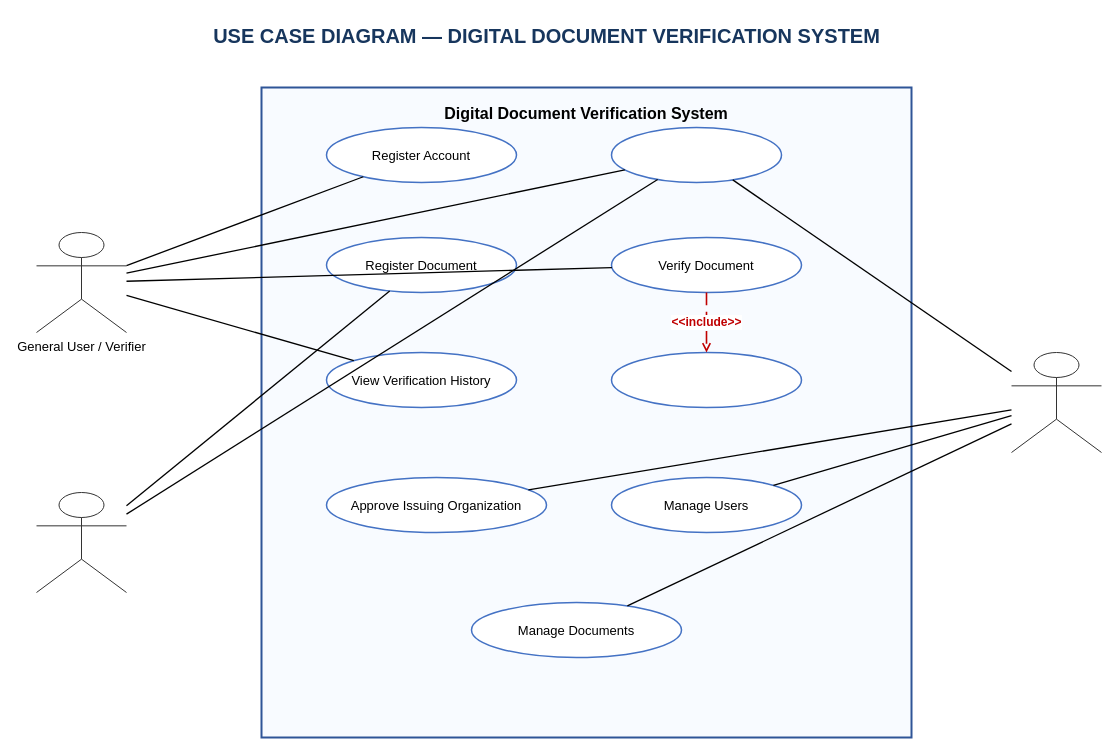
This 1119x755 diagram has some shape labels left out. Here are the shapes that lost their labels. From the top down, the centre of each, then its label:
At point (696, 154): "Log In".
At point (706, 379): "Check Integrity Hash".
At point (1056, 402): "Administrator".
At point (81, 542): "Issuing Organization".
